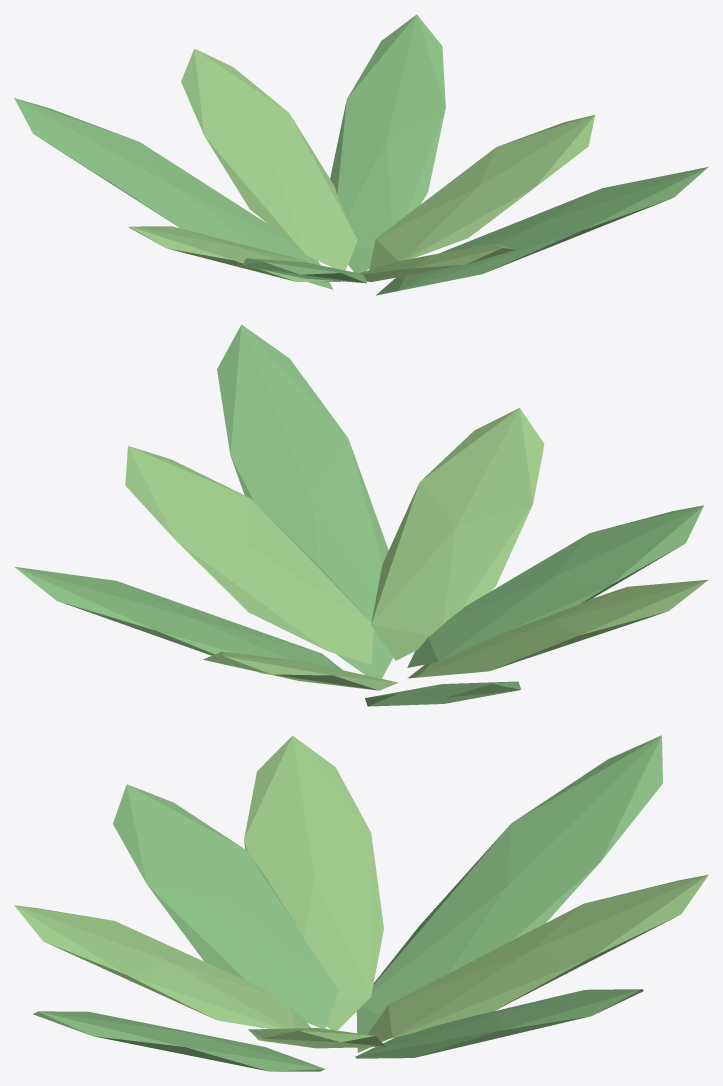
File: Fern.fbx
The picture shows the model from 3 angles, top to bottom: view 1: azimuth 30°, elevation 25°; view 2: azimuth 150°, elevation 25°; view 3: azimuth 270°, elevation 25°; orthographic projection. The views are drawn at different scales.
Parts seen in each view (by area): view 1: Fern_Mesh; view 2: Fern_Mesh; view 3: Fern_Mesh.
Boxes of the visible parts, bbox=[...] form: Fern_Mesh: bbox=[14, 14, 708, 295]; Fern_Mesh: bbox=[14, 324, 708, 706]; Fern_Mesh: bbox=[14, 735, 708, 1071].
Bounding box in the file's own units: 1.02 × 0.3186 × 1.01.
